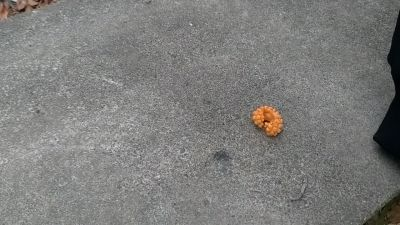eggs: (252, 104, 285, 138)
